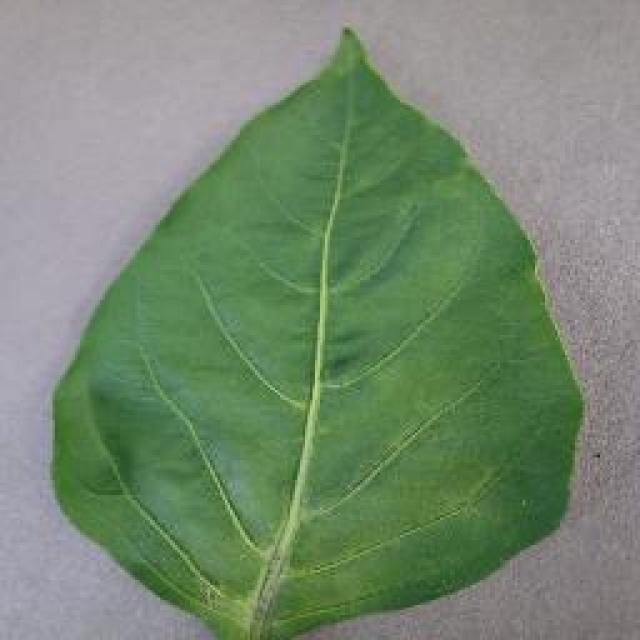Leaf: (83, 75, 573, 564)
